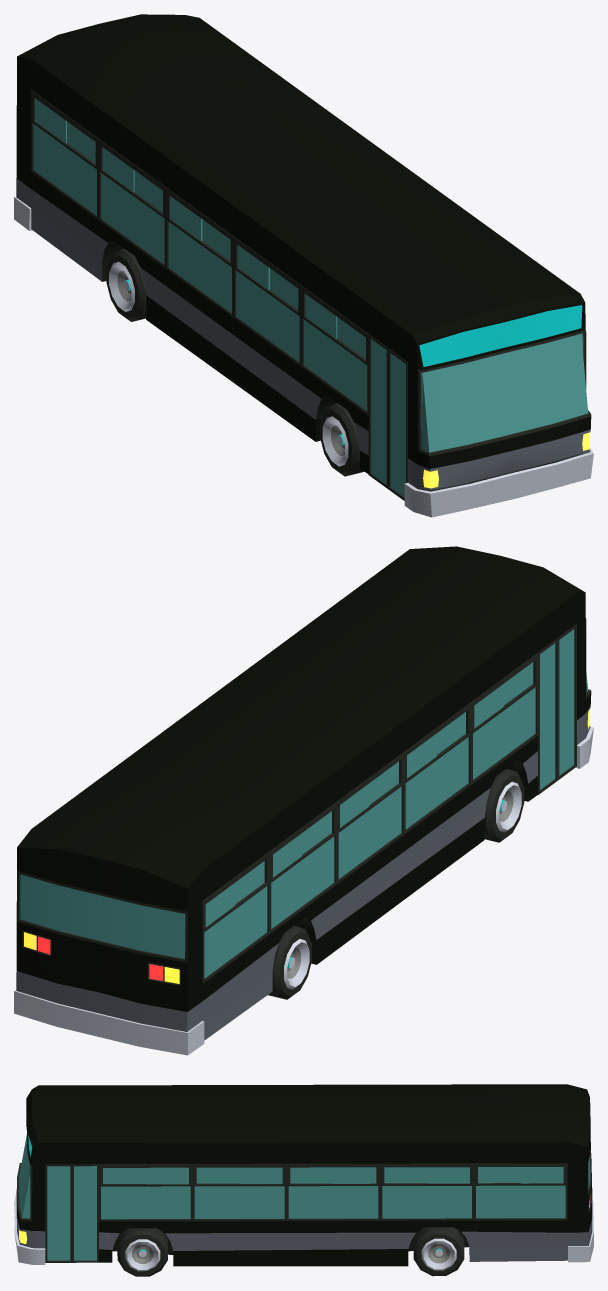
File: Bus.glb
3 views of the same model, one above another, from view 1: azimuth 30°, elevation 25°; view 2: azimuth 150°, elevation 25°; view 3: azimuth 270°, elevation 25° (orthographic). The views are drawn at different scales.
Parts seen in each view (by area): view 1: Bus; view 2: Bus; view 3: Bus.
Boxes of the visible parts, x1,y1,x2,y2 form: Bus: (14, 14, 593, 517); Bus: (14, 546, 593, 1055); Bus: (14, 1084, 593, 1276).
Size of what is drawn, in the model's own units: 4.75 by 5.15 by 19.09.
1 material, 1 textured.
